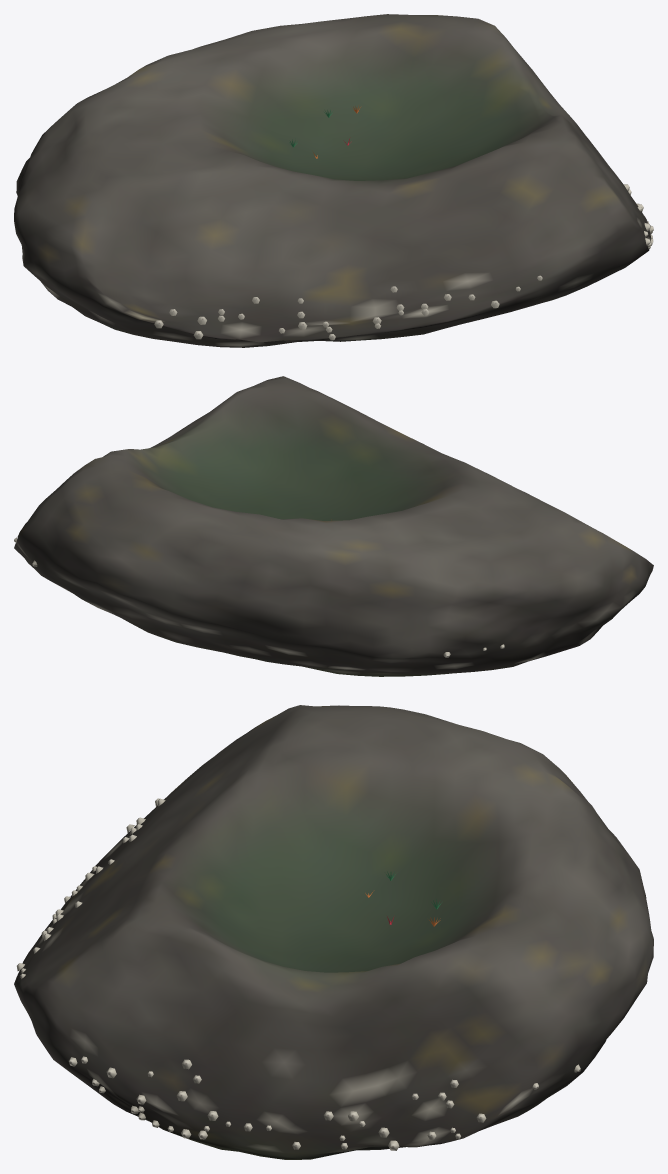
File: tide-pool-rock-a.lod0.glb
3 renders of one model, top to bottom at view 1: azimuth 30°, elevation 25°; view 2: azimuth 150°, elevation 25°; view 3: azimuth 270°, elevation 25°, orthographic. The views are drawn at different scales.
Bounding box in the file's own units: 3.3 × 0.8926 × 2.63.
